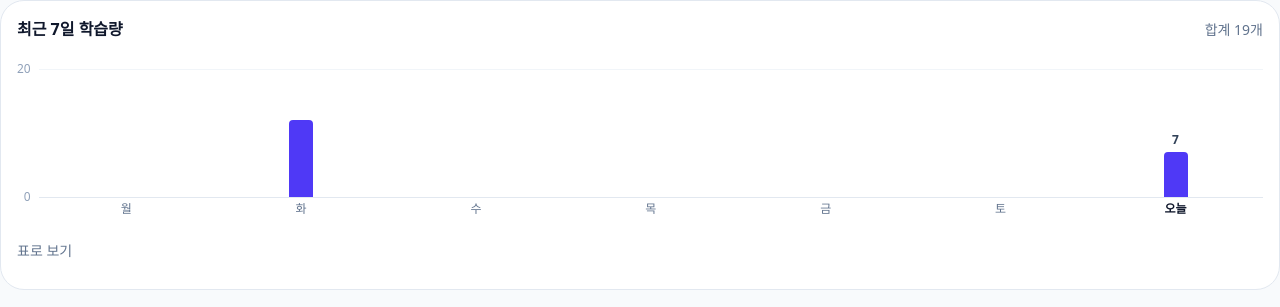
Test case: WeeklyChart › 마우스를 올리거나 포커스하면 툴팁을 보여 준다
The width and height of the screenshot is (1280, 307).
Hover over the button named "9월 29일 (화) 12개 학습, 정답 9개" at (301, 133), box [214,69,388,197]
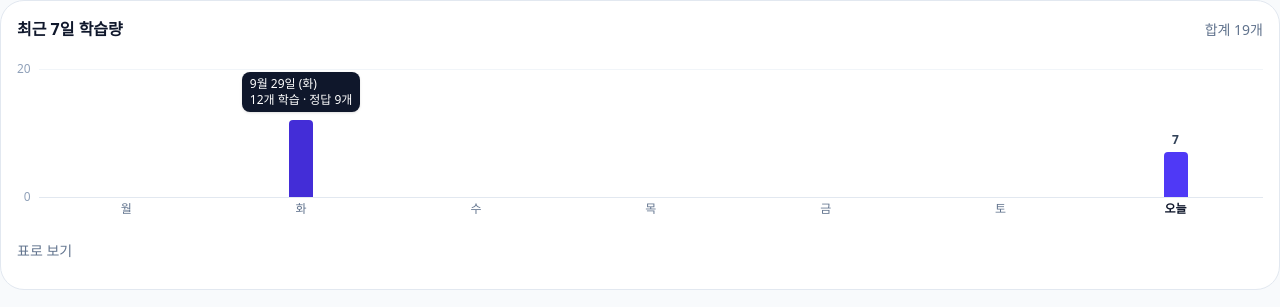
Expected: the tooltip reads "9월 29일 (화)12개 학습 · 정답 9개", [242,72,360,112]
Move the pointer off the button named "9월 29일 (화) 12개 학습, 정답 9개", box [214,69,388,197]
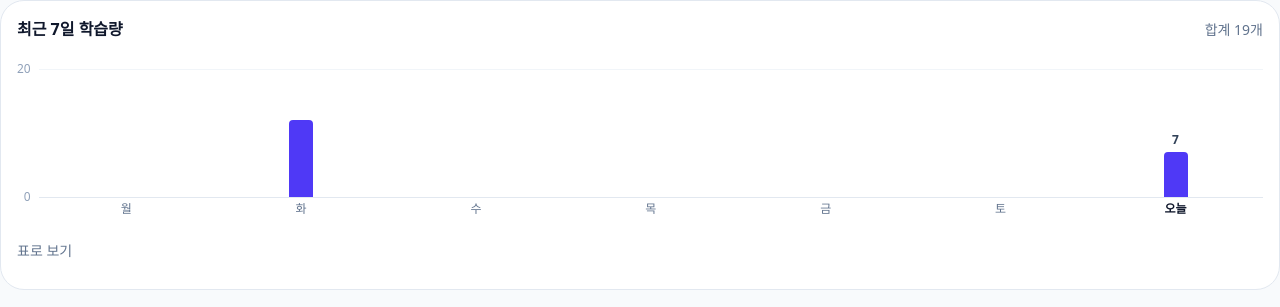
Expected: the tooltip "9월 29일 (화)12개 학습 · 정답 9개" is gone
Focus the button named "10월 4일 (일) 7개 학습, 정답 7개" at (1176, 133), box [1088,69,1263,197]
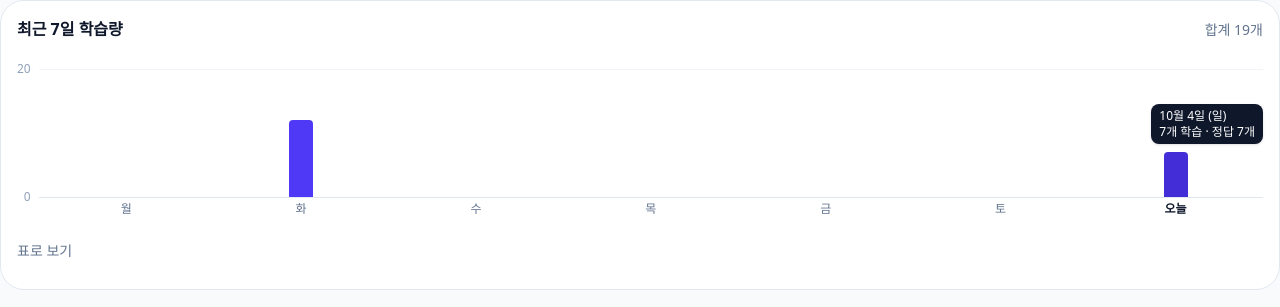
Expected: the tooltip shows "7개 학습", [1151,104,1263,144]
